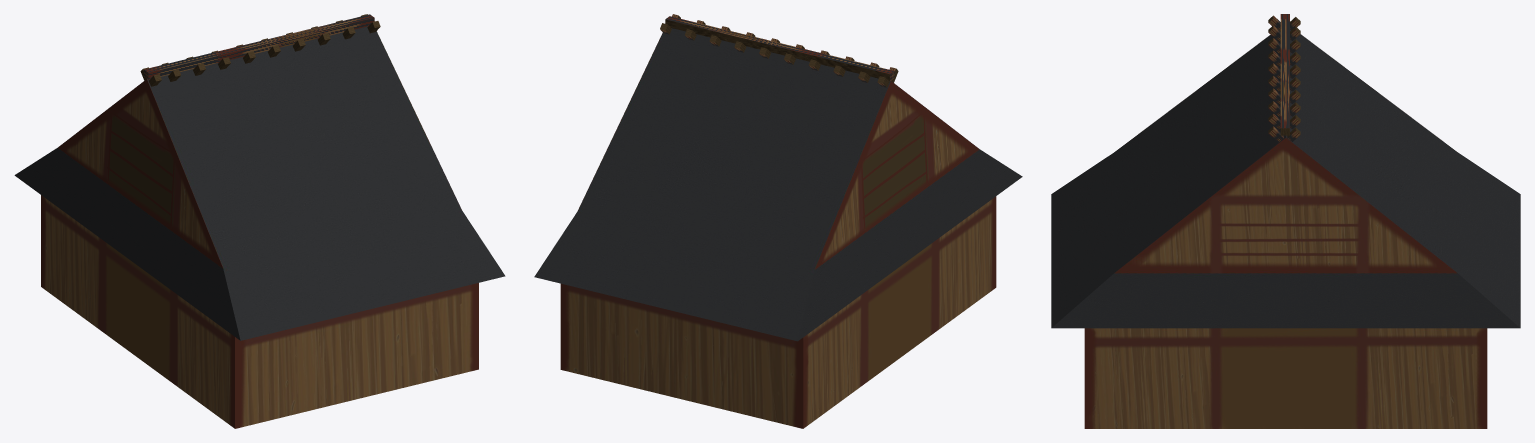
The model's file is house.fbx.
The picture shows the model from 3 angles, left to right: view 1: azimuth 30°, elevation 25°; view 2: azimuth 150°, elevation 25°; view 3: azimuth 270°, elevation 25°; orthographic projection. The views are drawn at different scales.
Parts seen in each view (by area): view 1: Box139; view 2: Box139; view 3: Box139.
Boxes of the visible parts, x1,y1,x2,y2 form: Box139: (14,14,505,428); Box139: (534,14,1022,428); Box139: (1051,14,1520,428).
Bounding box in the file's own units: 41.46 × 42.6 × 61.3.
